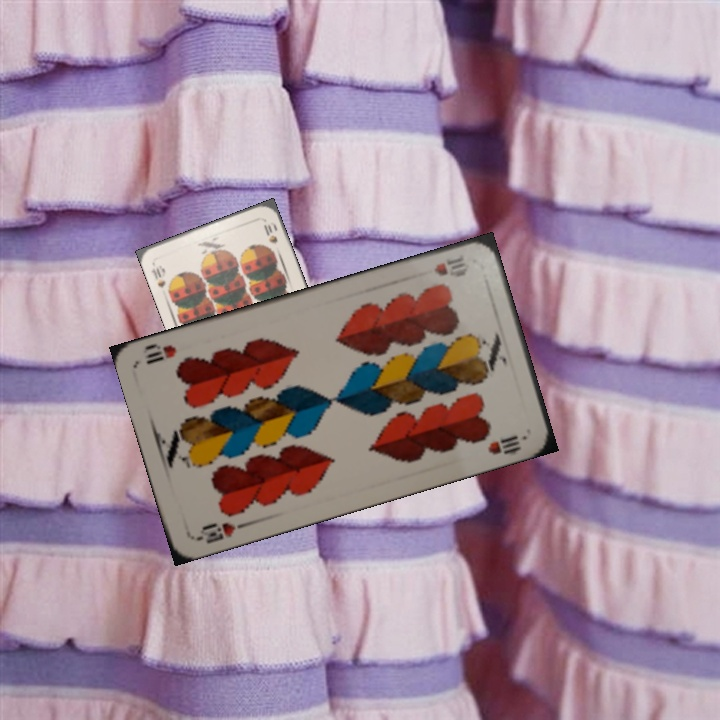H10: (192, 518, 238, 546), (430, 250, 472, 279)
S10: (147, 261, 174, 297)
